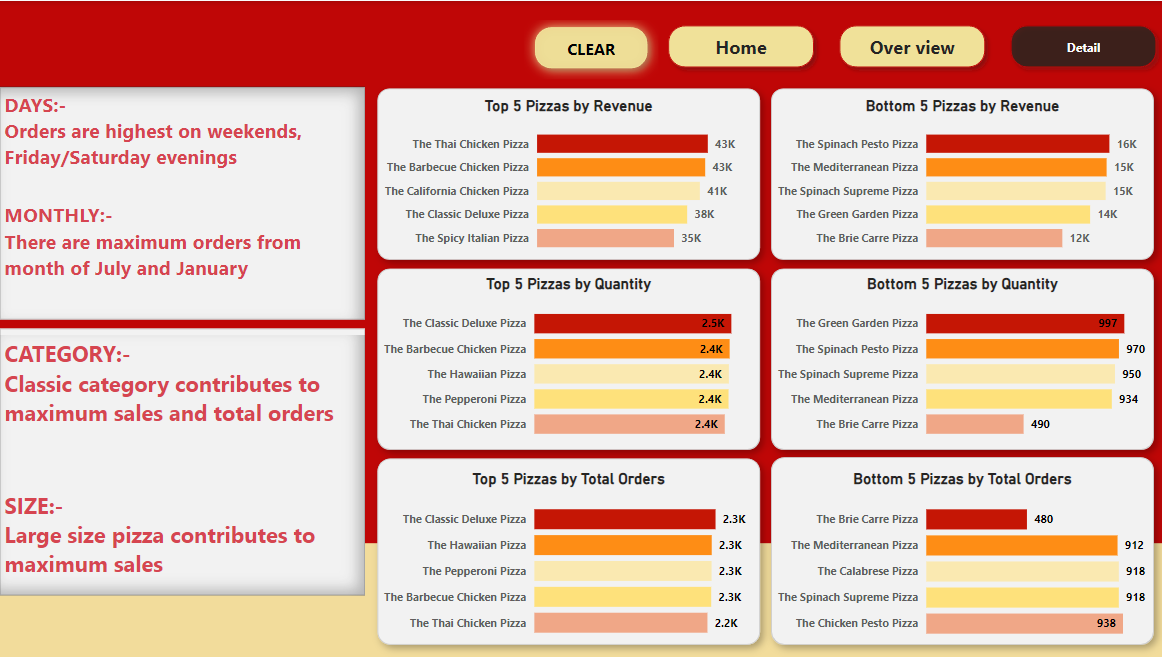

This screenshot's page, from the dashboard's own definition file:
{"tool":"powerbi","page":{"name":"Detail","canvas":[1280,720],"ordinal":2},"visuals":[{"type":"group","id":"g1","title":"Group 1","box":[0,0,1280.3,720.4],"z":0},{"type":"shape","box":[0,0,1280.3,720.4],"z":1000,"group":"g1"},{"type":"shape","box":[0,0,1280.3,595.5],"z":1000},{"type":"shape","box":[832.9,82.3,447.3,215.4],"z":1000,"group":"g3"},{"type":"group","id":"g2","title":"Group 2","box":[400.7,82.3,447.3,215.4],"z":2000},{"type":"shape","box":[400.7,82.3,447.3,215.4],"z":2000,"group":"g2"},{"type":"shape","box":[0,94,400.7,255],"z":2000,"group":"g8"},{"type":"shape","box":[0,359.5,400.7,292.9],"z":2000,"group":"g9"},{"type":"group","id":"g3","title":"Group 3","box":[832.9,82.3,447.3,215.4],"z":3000},{"type":"shape","box":[400.7,279.9,447.3,226.4],"z":3000,"group":"g4"},{"type":"textbox","box":[0,365.9,400.7,287.3],"z":3000,"group":"g9"},{"type":"textbox","box":[0,93.3,400.7,256.6],"z":4000,"group":"g8"},{"type":"group","id":"g4","title":"Group 4","box":[400.7,279.9,447.3,226.4],"z":4000},{"type":"shape","box":[832.9,279.9,447.3,226.4],"z":4000,"group":"g5"},{"type":"group","id":"g5","title":"Group 5","box":[832.9,279.9,447.3,226.4],"z":5000},{"type":"shape","box":[400.7,488.5,447.3,231.9],"z":5000,"group":"g6"},{"type":"shape","box":[832.9,487.1,447.3,233.3],"z":6000,"group":"g7"},{"type":"group","id":"g6","title":"Group 6","box":[400.7,488.5,447.3,231.9],"z":6000},{"type":"group","id":"g7","title":"Group 7","box":[832.9,487.1,447.3,233.3],"z":7000},{"type":"pageNavigator","box":[724.3,17.8,555.7,64.5],"z":8000},{"type":"group","id":"g8","title":"Group 8","box":[0,93.3,400.7,256.6],"z":9000},{"type":"group","id":"g9","title":"Group 9","box":[0,359.5,400.7,293.7],"z":10000},{"type":"actionButton","box":[575.3,17,148.1,69.8],"z":11000},{"type":"clusteredBarChart","title":"Top 5 Pizzas by Revenue","fields":{"Category":["pizza_sales.pizza_name"],"Y":["pizza_sales.total_revenue"]},"box":[415.8,103.6,417.2,182.3],"z":11000,"group":"g2"},{"type":"clusteredBarChart","title":"Bottom 5 Pizzas by Revenue","fields":{"Category":["pizza_sales.pizza_name"],"Y":["pizza_sales.total_revenue"]},"box":[848,103.6,417.2,182.3],"z":12000,"group":"g3"},{"type":"clusteredBarChart","title":"Top 5 Pizzas by Quantity","fields":{"Category":["pizza_sales.pizza_name"],"Y":["Sum(pizza_sales.quantity)"]},"box":[415.8,301,417.2,191.6],"z":13000,"group":"g4"},{"type":"clusteredBarChart","title":"Bottom 5 Pizzas by Quantity","fields":{"Category":["pizza_sales.pizza_name"],"Y":["Sum(pizza_sales.quantity)"]},"box":[848,301,417.2,191.6],"z":14000,"group":"g5"},{"type":"clusteredBarChart","title":"Top 5 Pizzas by Total Orders","fields":{"Category":["pizza_sales.pizza_name"],"Y":["Count(pizza_sales.order_id)"]},"box":[415.8,515.3,417.2,196.2],"z":15000,"group":"g6"},{"type":"clusteredBarChart","title":"Bottom 5 Pizzas by Total Orders","fields":{"Category":["pizza_sales.pizza_name"],"Y":["Count(pizza_sales.order_id)"]},"box":[848,514,417.2,197.4],"z":16000,"group":"g7"}]}

Visuals, with their boxes in screenshot pixels (x1, y1, x2, y2), scaled from the page's 1280x720 canvas onto the 1162x657 screenshot:
"Group 1" group: {"left": 0, "top": 0, "right": 1161, "bottom": 656}
shape: {"left": 0, "top": 0, "right": 1161, "bottom": 656}
shape: {"left": 0, "top": 0, "right": 1161, "bottom": 543}
shape: {"left": 756, "top": 75, "right": 1161, "bottom": 272}
"Group 2" group: {"left": 364, "top": 75, "right": 770, "bottom": 272}
shape: {"left": 364, "top": 75, "right": 770, "bottom": 272}
shape: {"left": 0, "top": 86, "right": 364, "bottom": 318}
shape: {"left": 0, "top": 328, "right": 364, "bottom": 595}
"Group 3" group: {"left": 756, "top": 75, "right": 1161, "bottom": 272}
shape: {"left": 364, "top": 255, "right": 770, "bottom": 462}
textbox: {"left": 0, "top": 334, "right": 364, "bottom": 596}
textbox: {"left": 0, "top": 85, "right": 364, "bottom": 319}
"Group 4" group: {"left": 364, "top": 255, "right": 770, "bottom": 462}
shape: {"left": 756, "top": 255, "right": 1161, "bottom": 462}
"Group 5" group: {"left": 756, "top": 255, "right": 1161, "bottom": 462}
shape: {"left": 364, "top": 446, "right": 770, "bottom": 656}
shape: {"left": 756, "top": 444, "right": 1161, "bottom": 656}
"Group 6" group: {"left": 364, "top": 446, "right": 770, "bottom": 656}
"Group 7" group: {"left": 756, "top": 444, "right": 1161, "bottom": 656}
pageNavigator: {"left": 658, "top": 16, "right": 1161, "bottom": 75}
"Group 8" group: {"left": 0, "top": 85, "right": 364, "bottom": 319}
"Group 9" group: {"left": 0, "top": 328, "right": 364, "bottom": 596}
actionButton: {"left": 522, "top": 16, "right": 657, "bottom": 79}
"Top 5 Pizzas by Revenue" clusteredBarChart: {"left": 377, "top": 95, "right": 756, "bottom": 261}
"Bottom 5 Pizzas by Revenue" clusteredBarChart: {"left": 770, "top": 95, "right": 1149, "bottom": 261}
"Top 5 Pizzas by Quantity" clusteredBarChart: {"left": 377, "top": 275, "right": 756, "bottom": 449}
"Bottom 5 Pizzas by Quantity" clusteredBarChart: {"left": 770, "top": 275, "right": 1149, "bottom": 449}
"Top 5 Pizzas by Total Orders" clusteredBarChart: {"left": 377, "top": 470, "right": 756, "bottom": 649}
"Bottom 5 Pizzas by Total Orders" clusteredBarChart: {"left": 770, "top": 469, "right": 1149, "bottom": 649}
